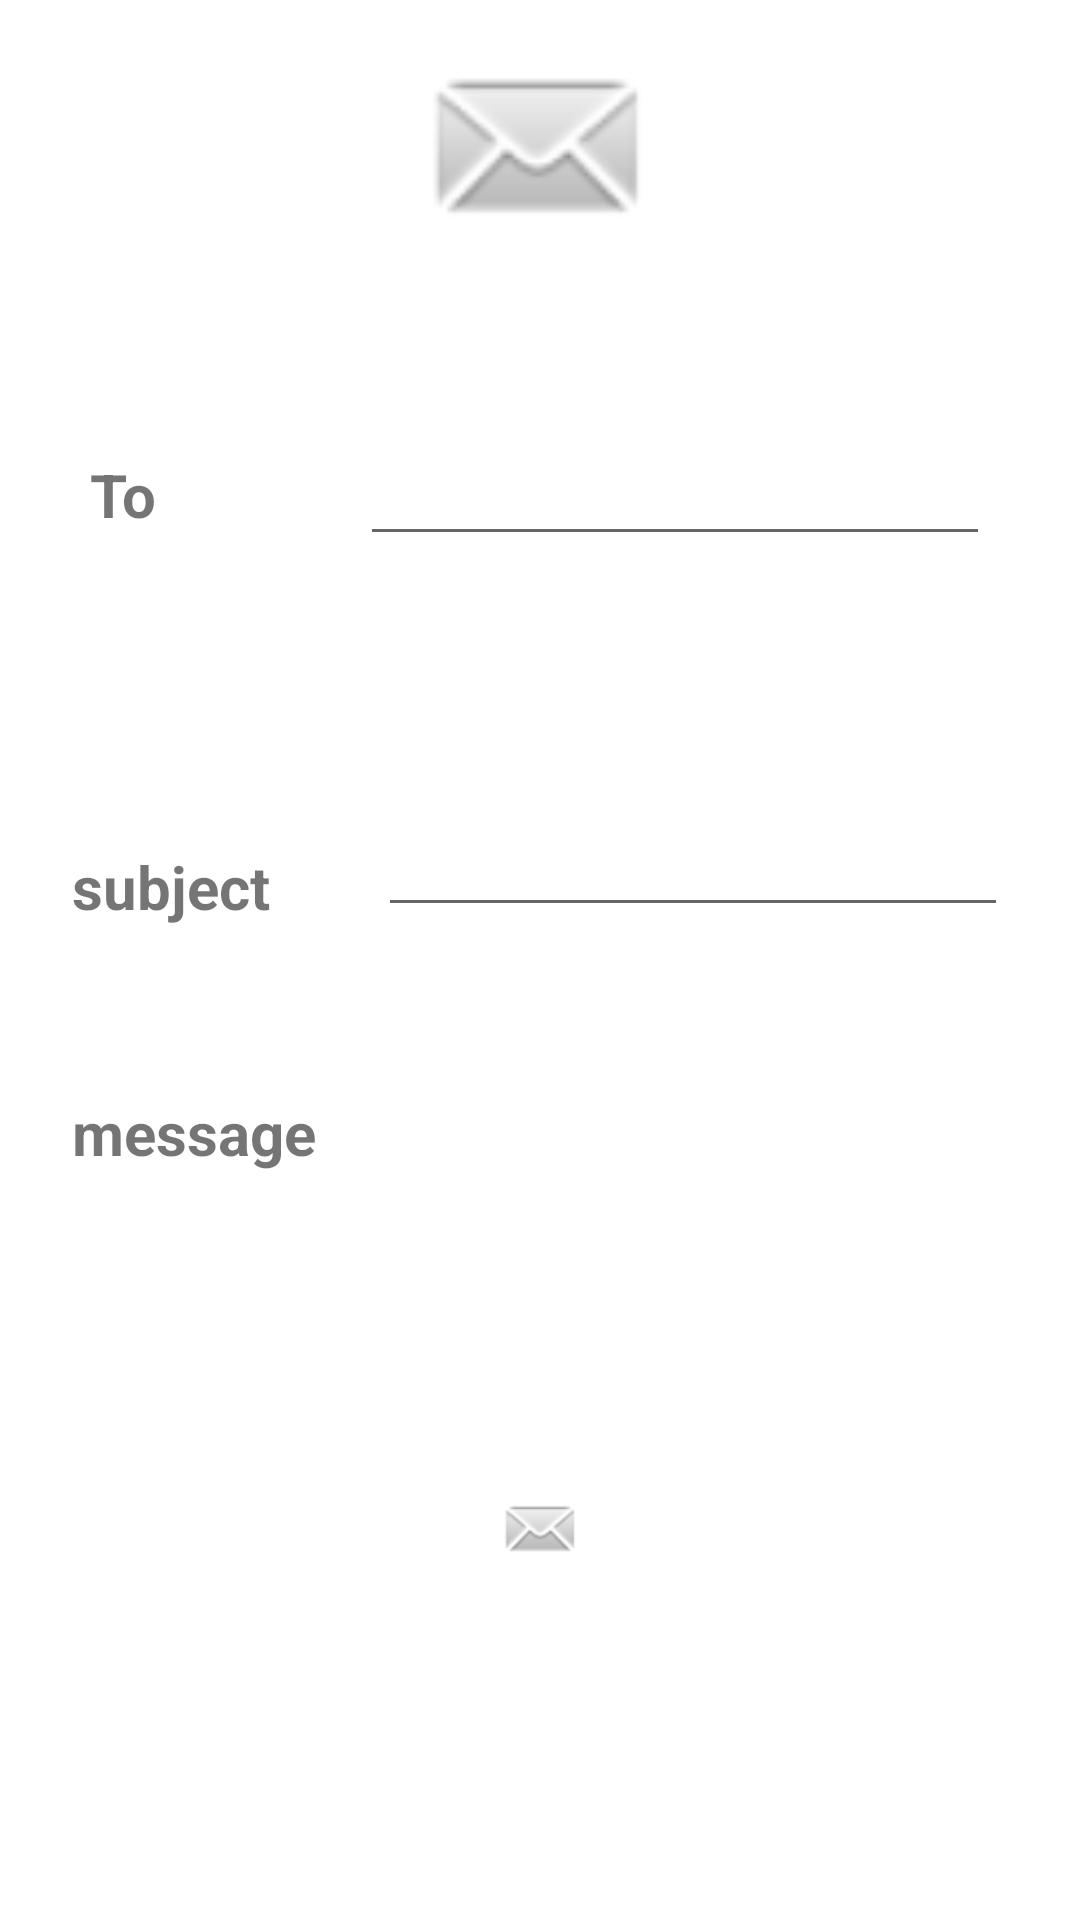

Where to tap for icons on this 1080px x 1920px app screen, as (x=x, y=y):
sym action email: (x=537, y=146), (x=540, y=1528)
